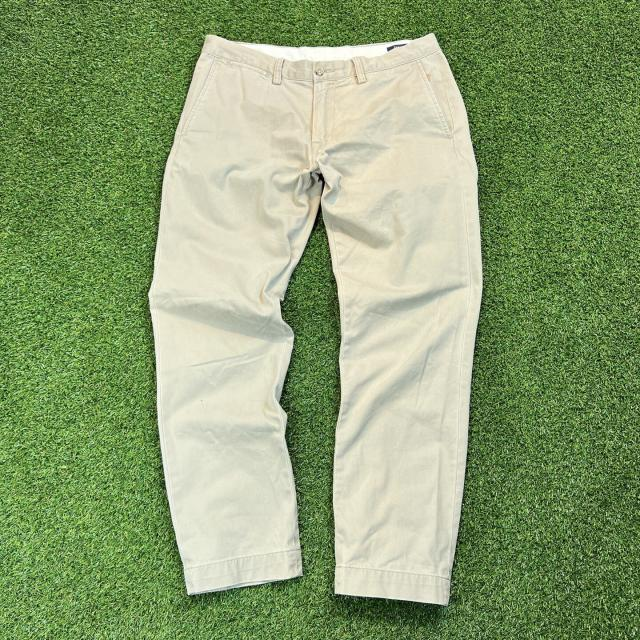long-pants: (149, 29, 484, 603)
